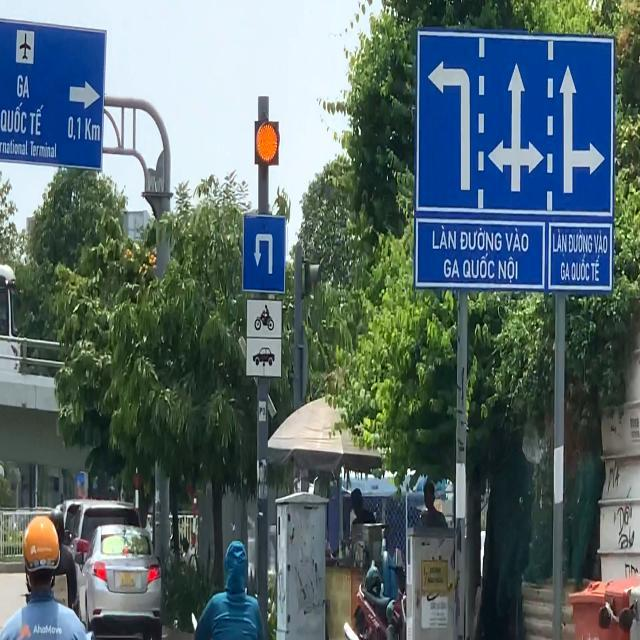Cho quay xe: (242, 214, 286, 298)
